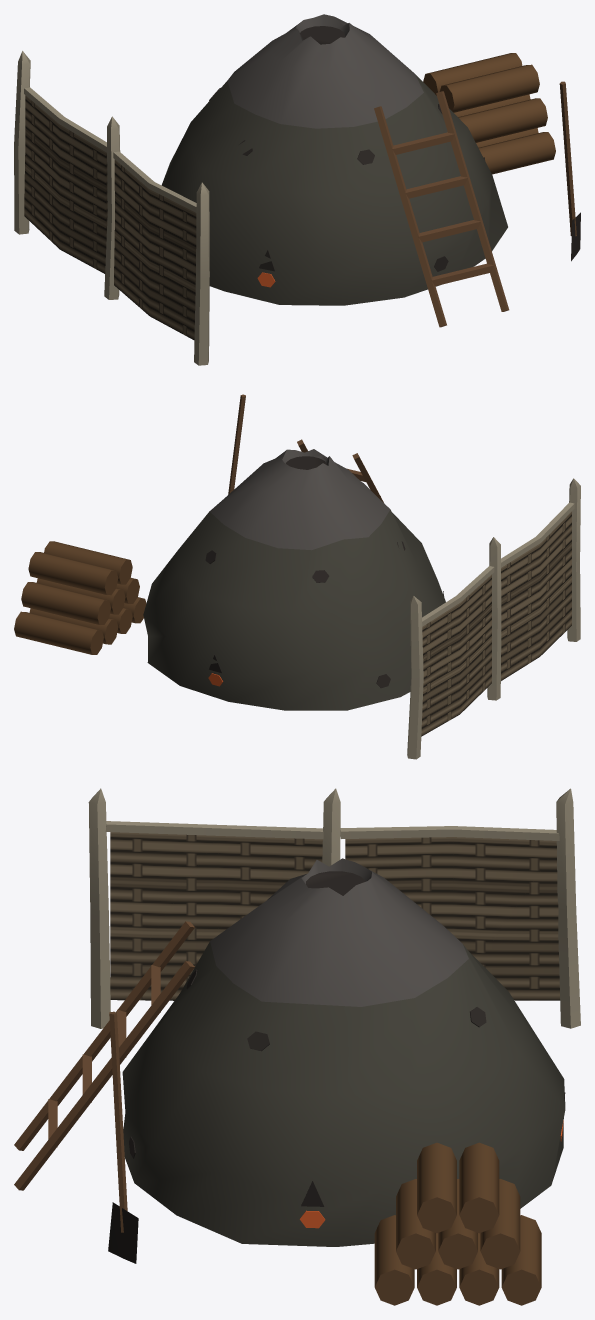
File: CharcoalKiln.fbx
3 renders of one model, top to bottom at view 1: azimuth 30°, elevation 25°; view 2: azimuth 150°, elevation 25°; view 3: azimuth 270°, elevation 25°, orthographic. The views are drawn at different scales.
Parts seen in each view (by area): view 1: CharcoalKiln; view 2: CharcoalKiln; view 3: CharcoalKiln.
Boxes of the visible parts, <box> form: CharcoalKiln: <box>14,14,580,365</box>; CharcoalKiln: <box>14,394,580,759</box>; CharcoalKiln: <box>14,788,580,1305</box>.
Bounding box in the file's own units: 3 × 1.35 × 2.41.
